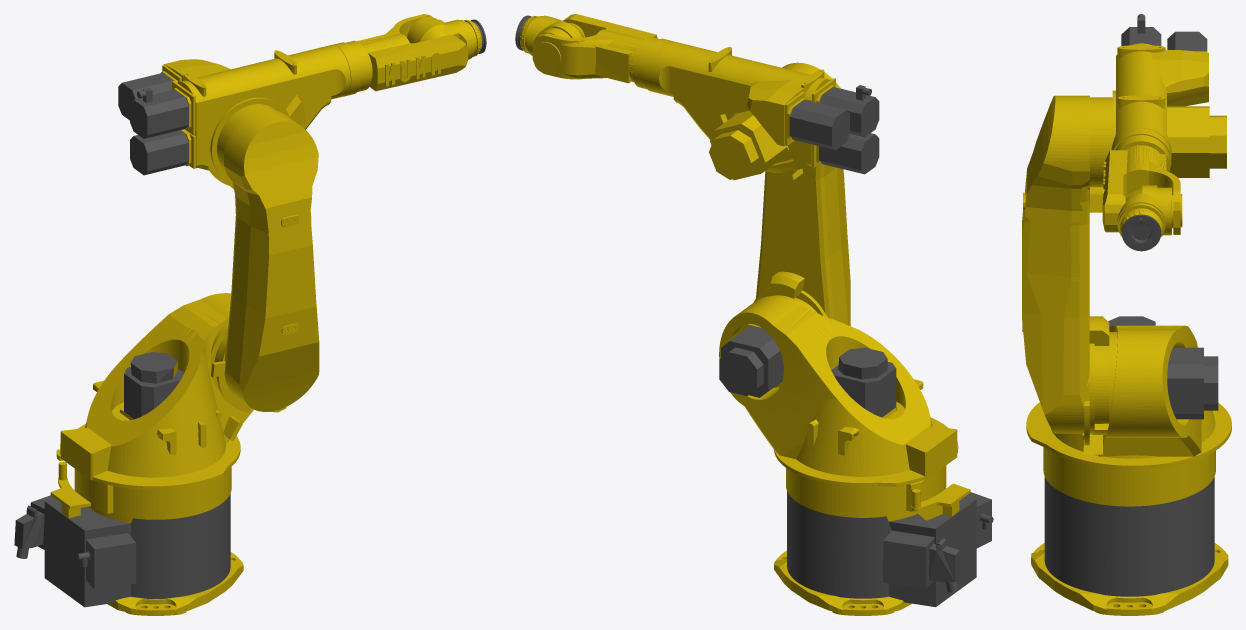
The picture shows the model from 3 angles, left to right: view 1: azimuth 30°, elevation 25°; view 2: azimuth 150°, elevation 25°; view 3: azimuth 270°, elevation 25°; orthographic projection. The views are drawn at different scales.
Visible parts, largest first — view 1: kr60_3, kr60_1, kr60_2, kr60_4, kr60_5, kr60_6; view 2: kr60_2, kr60_1, kr60_4, kr60_3, kr60_5, kr60_6; view 3: kr60_1, kr60_3, kr60_2, kr60_4, kr60_5, kr60_6, kr60_7.
Part boxes in pixels (box(x1,y1,x2,y2)): kr60_3: box(211, 104, 319, 412); kr60_1: box(14, 461, 243, 615); kr60_2: box(56, 293, 286, 489); kr60_4: box(118, 44, 350, 189); kr60_5: box(333, 14, 468, 96); kr60_6: box(407, 17, 477, 59); kr60_2: box(719, 295, 958, 489); kr60_1: box(774, 465, 993, 615); kr60_4: box(653, 41, 879, 182); kr60_3: box(753, 62, 850, 326); kr60_5: box(532, 14, 672, 93); kr60_6: box(525, 15, 585, 55); kr60_1: box(1031, 447, 1228, 615); kr60_3: box(1022, 95, 1112, 445); kr60_2: box(1026, 316, 1231, 469); kr60_4: box(1111, 14, 1226, 177); kr60_5: box(1102, 128, 1182, 234); kr60_6: box(1117, 185, 1172, 236); kr60_7: box(1120, 208, 1162, 251).
Size of the model in its own units: 0.7329 by 0.2643 by 0.7671.
